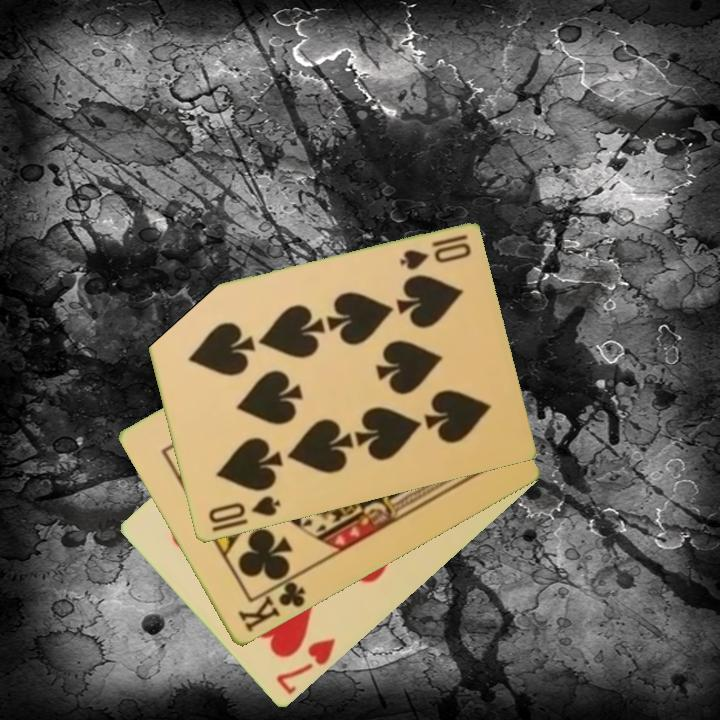10s: (396, 232, 474, 274), (204, 493, 283, 527)
7h: (273, 635, 339, 698)
Kc: (234, 571, 309, 636)
